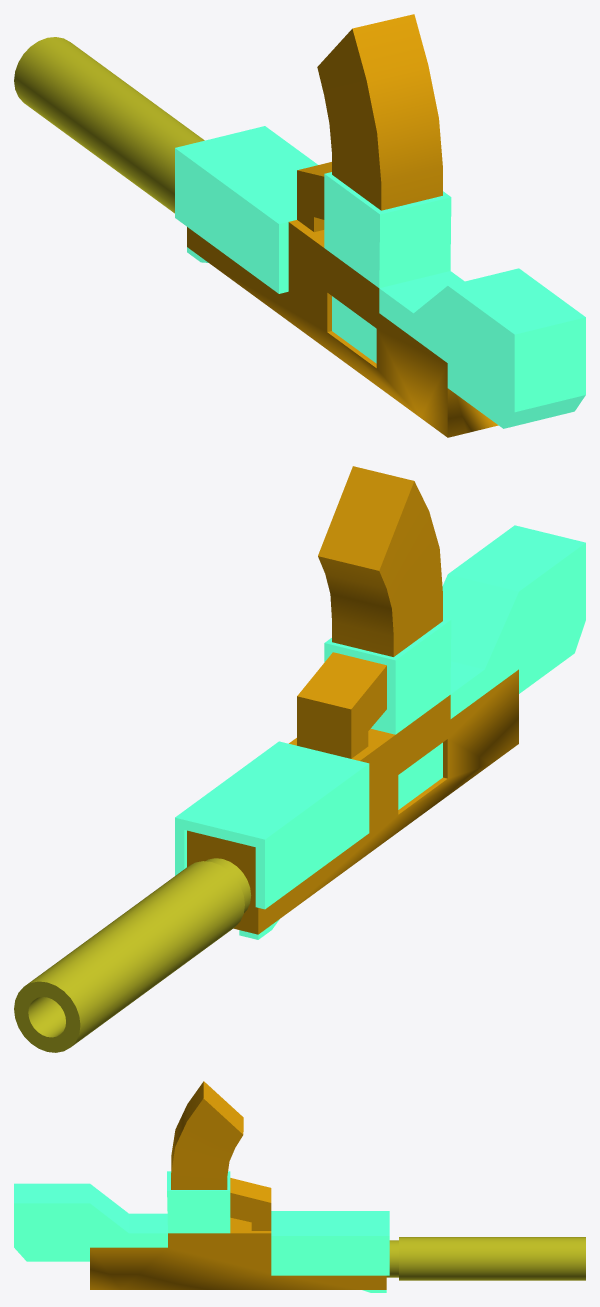
File: GEAR_MACHINE_GUN.fbx
3 renders of one model, top to bottom at view 1: azimuth 30°, elevation 25°; view 2: azimuth 150°, elevation 25°; view 3: azimuth 270°, elevation 25°, orthographic. The views are drawn at different scales.
Parts seen in each view (by area): view 1: uziGoldLongSilencer; view 2: uziGoldLongSilencer; view 3: uziGoldLongSilencer.
Part boxes in pixels (x1,y1,x2,y2): uziGoldLongSilencer: (14,14,585,437); uziGoldLongSilencer: (14,466,585,1052); uziGoldLongSilencer: (14,1081,585,1292).
Bounding box in the file's own units: 140 × 503 × 1348.
